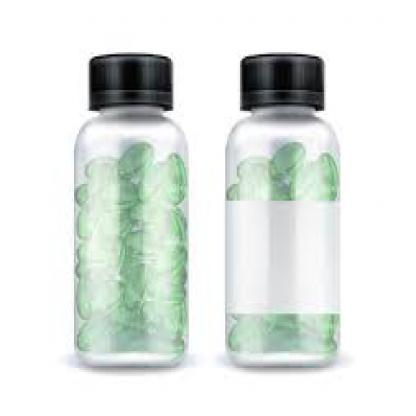jar: (226, 54, 340, 364), (75, 54, 188, 364)
